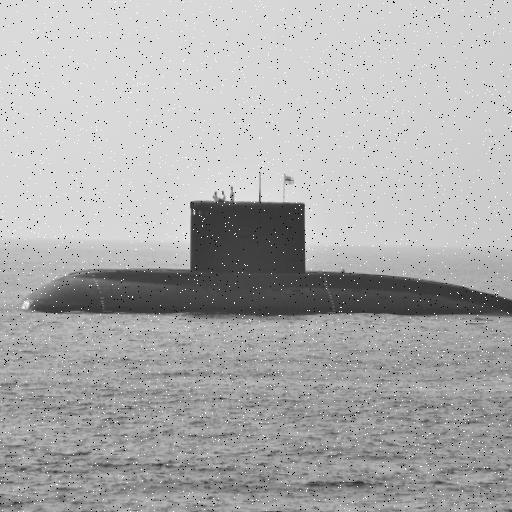submarine: (1, 188, 512, 321)
